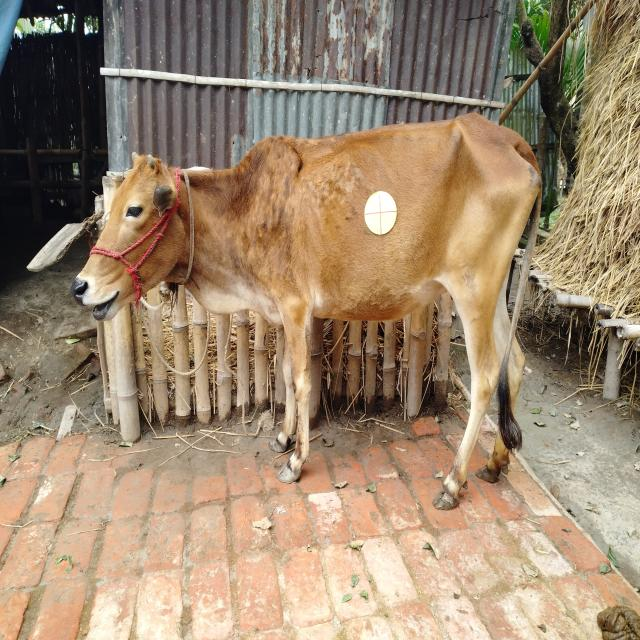badan_sapi: (254, 121, 542, 327)
sapi: (69, 106, 562, 536)
